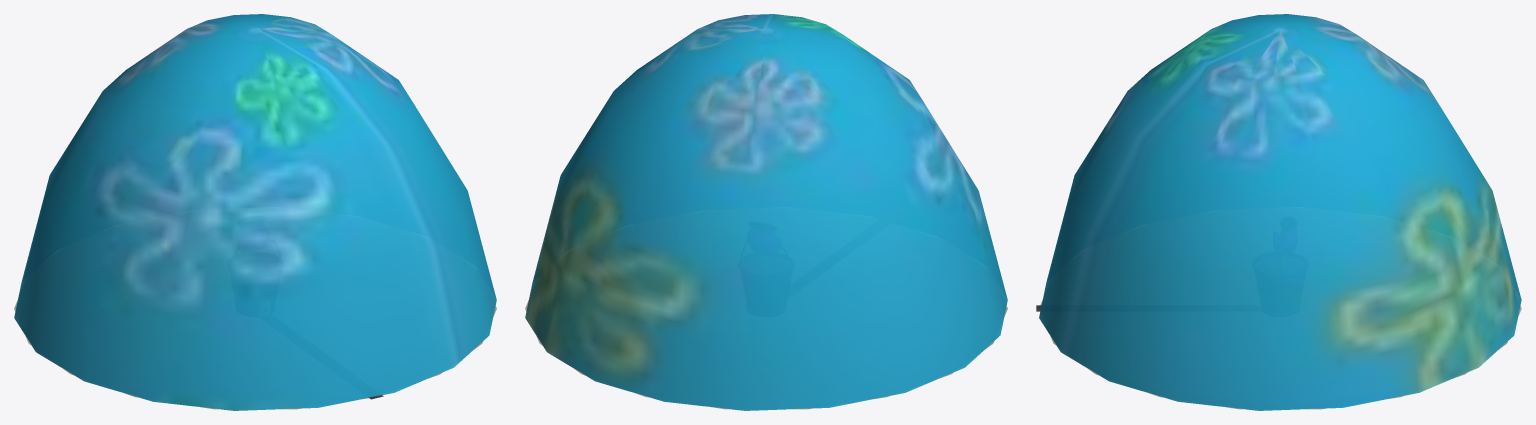
Rendered from chum-bucket.glb.
3 renders of one model, left to right at view 1: azimuth 30°, elevation 25°; view 2: azimuth 150°, elevation 25°; view 3: azimuth 270°, elevation 25°, orthographic.
Parts seen in each view (by area): view 1: Skybox_10 - Default_0; view 2: Skybox_10 - Default_0; view 3: Skybox_10 - Default_0.
Boxes of the visible parts, <box> form: Skybox_10 - Default_0: <box>14,14,496,410</box>; Skybox_10 - Default_0: <box>525,14,1007,410</box>; Skybox_10 - Default_0: <box>1039,14,1521,410</box>.
Size of the model in its own units: 2243 by 1436 by 2257.
11 materials, 7 textured.
